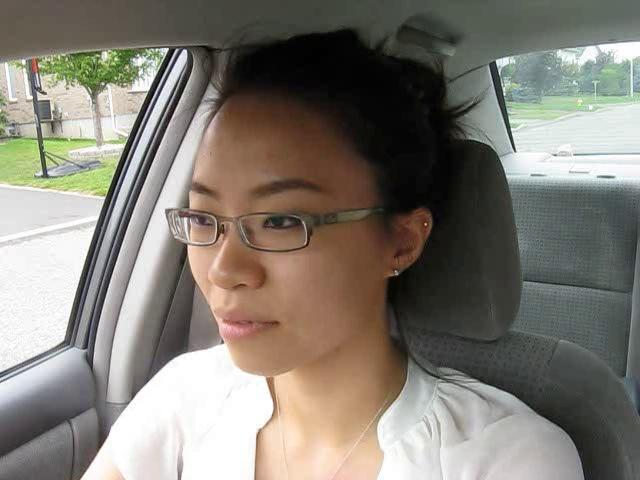no_yawn: (201, 301, 291, 345)
open_eyeL: (174, 204, 225, 243)
open_eyeR: (247, 206, 319, 248)
